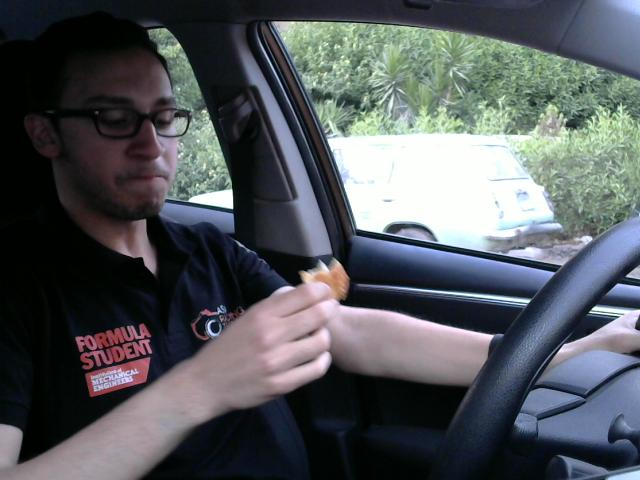Eating: (295, 243, 357, 308)
